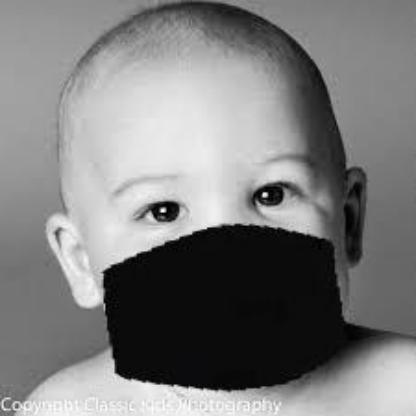Fabric/Cloth Mask: (72, 81, 354, 365)
